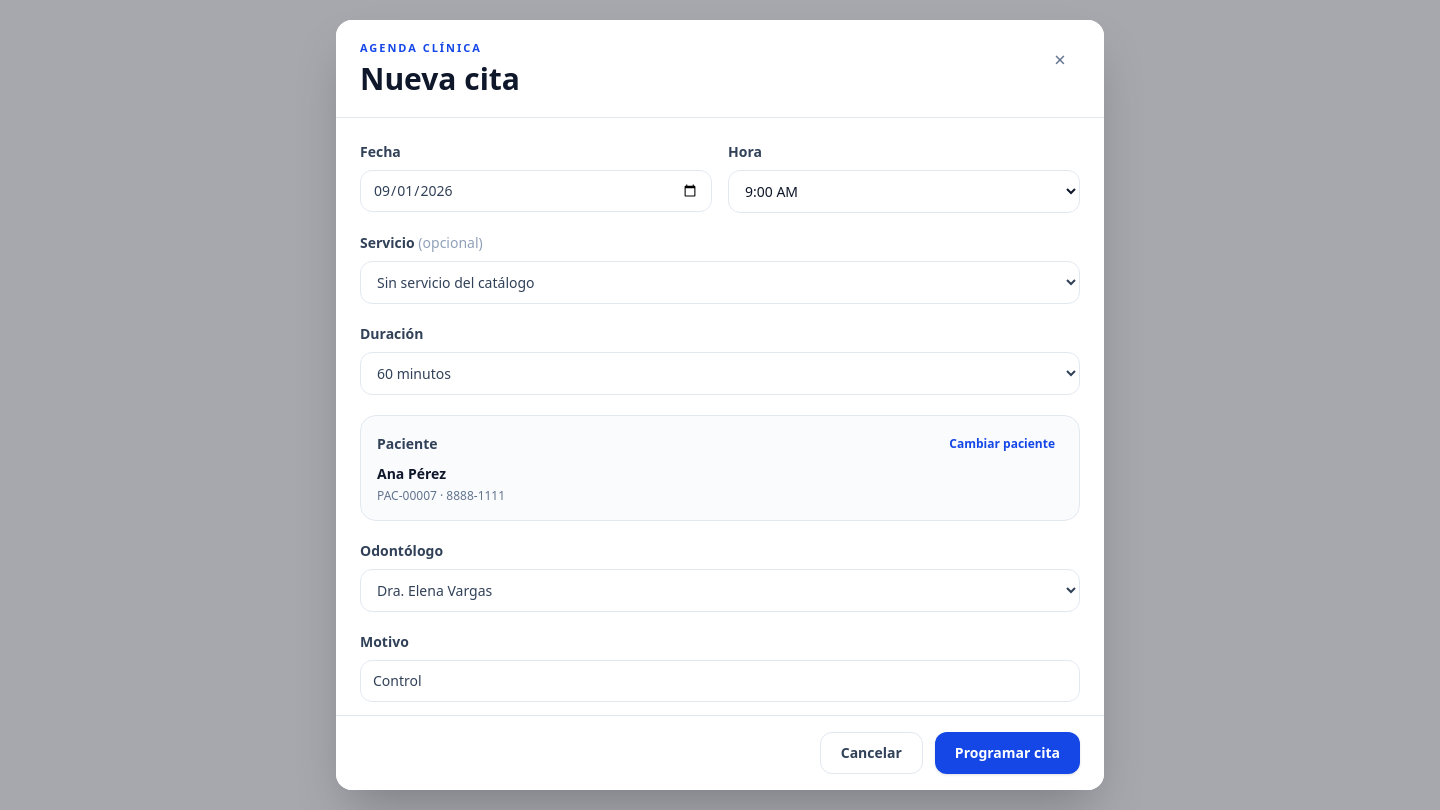
Test: AppointmentFormPanel patient search › clears the old patient when changing selection and never submits unresolved search text
Click the button "Cambiar paciente": (1002, 444) top-left (941, 432), bottom-right (1063, 456)
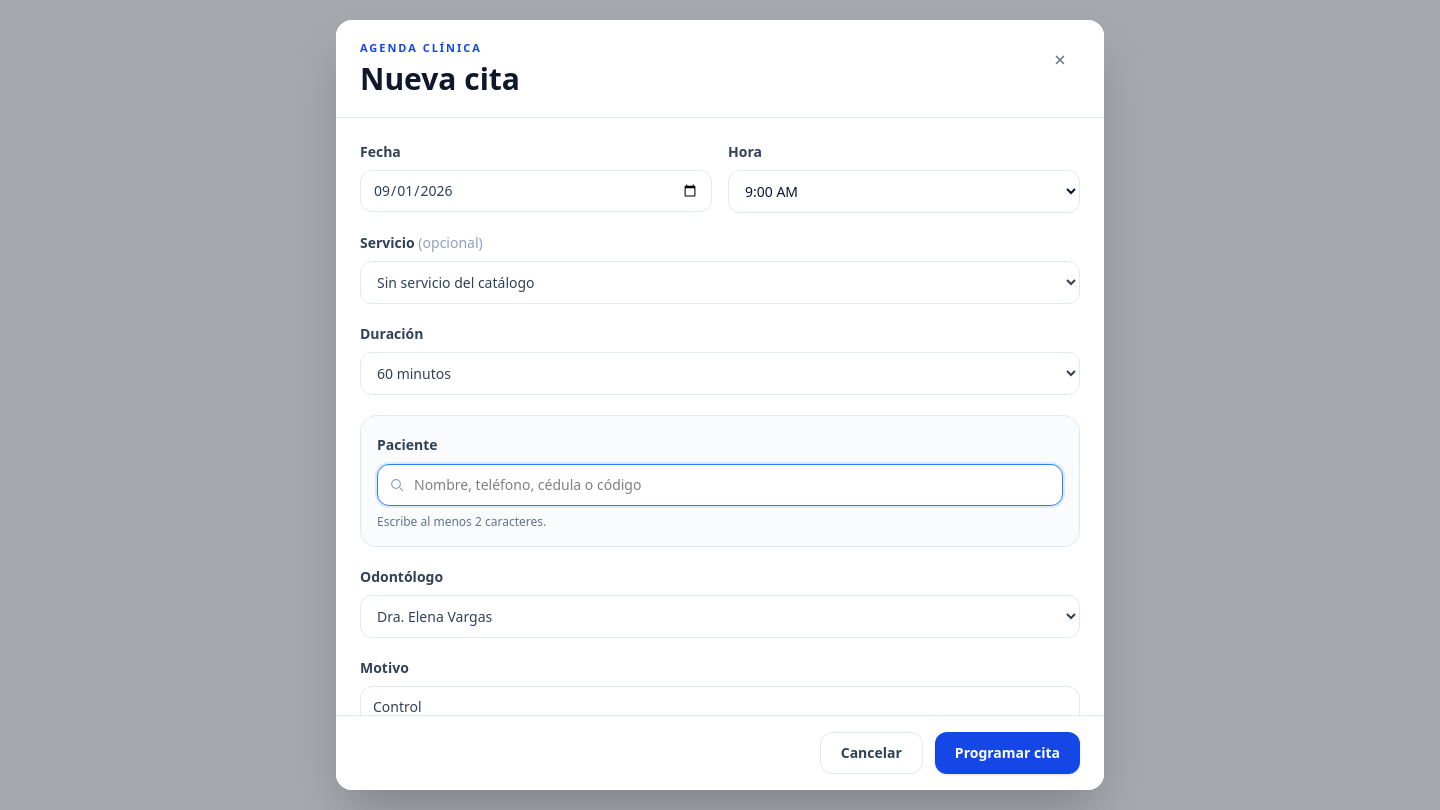
In the dropdown labelled "Paciente": (720, 484) top-left (377, 464), bottom-right (1063, 506), type "Ana"
Wait 300 ms
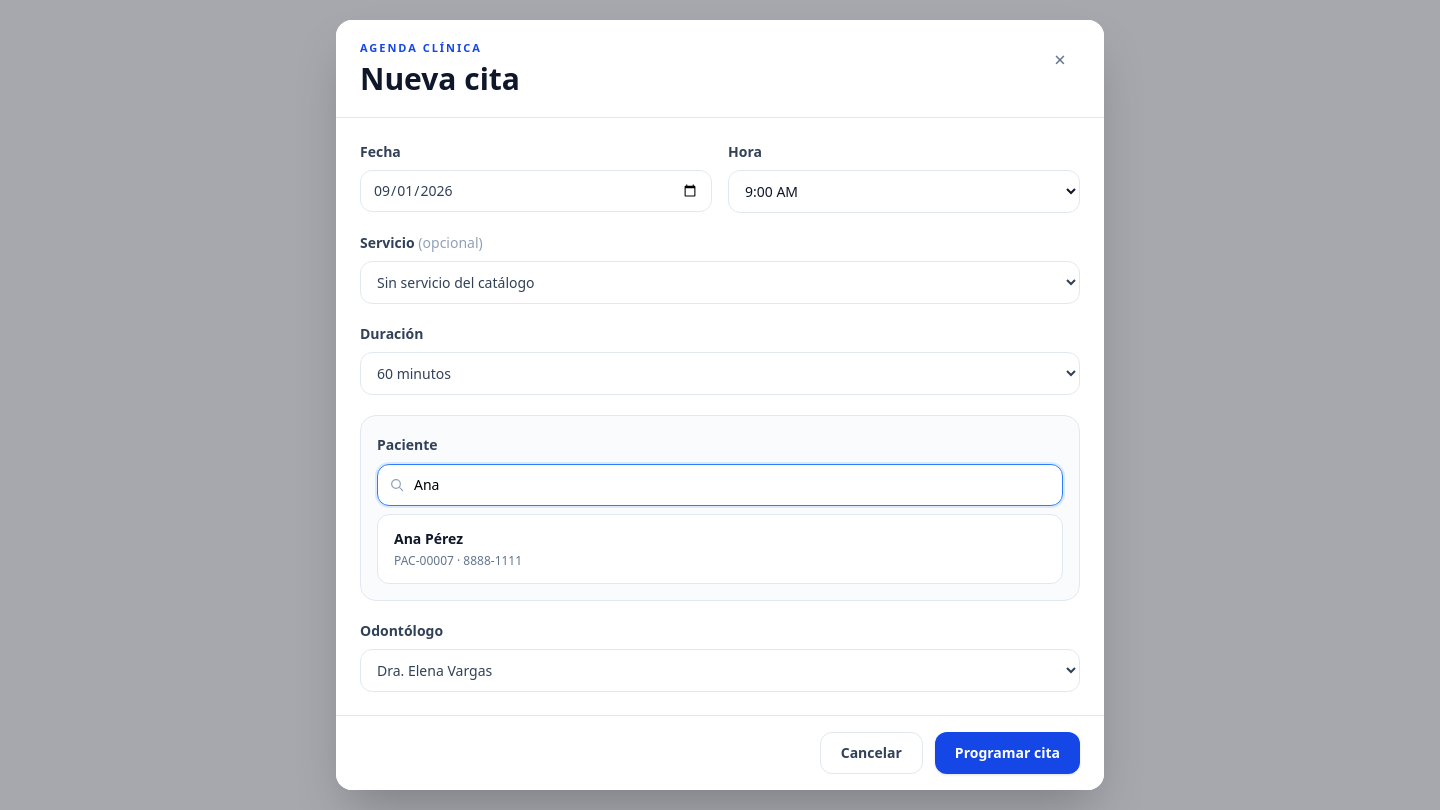
Submit the form named "Programar cita", box top-left (336, 118), bottom-right (1104, 790)
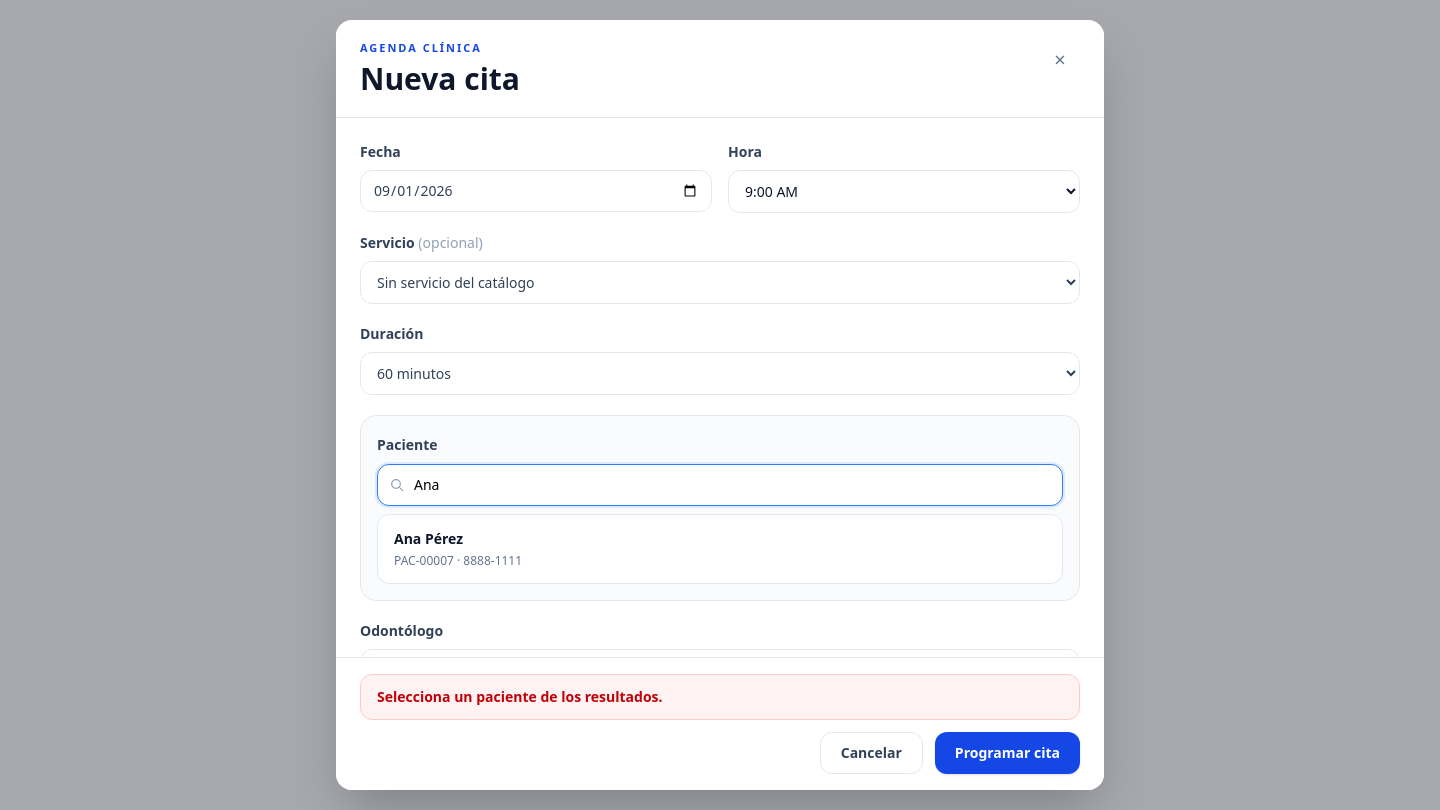
expect the message reads "Selecciona un paciente de los resultados.": met, box top-left (377, 687), bottom-right (662, 706)
